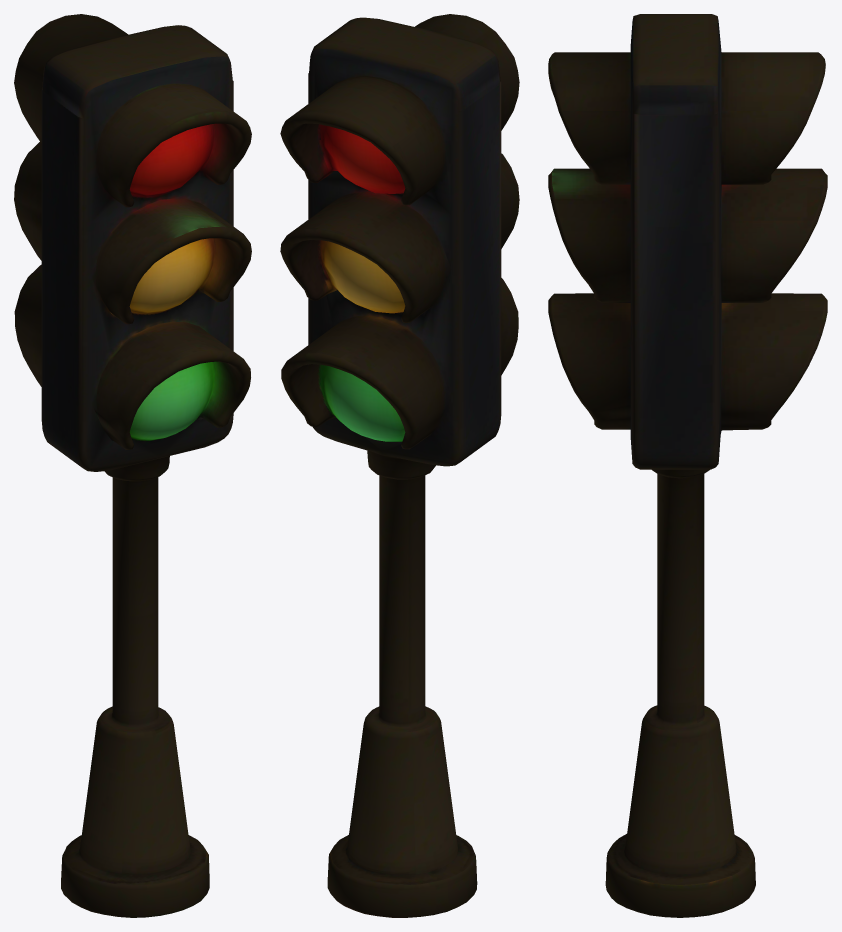
Rendered from traffic_light_b1babccc_v3.glb.
3 views of the same model, side by side, from view 1: azimuth 30°, elevation 25°; view 2: azimuth 150°, elevation 25°; view 3: azimuth 270°, elevation 25° (orthographic).
Parts seen in each view (by area): view 1: material; view 2: material; view 3: material.
Boxes of the visible parts, x1=… form: material: x1=14, y1=14, x2=251, y2=917; material: x1=280, y1=14, x2=519, y2=917; material: x1=548, y1=14, x2=827, y2=917.
Bounding box in the file's own units: 0.3652 × 1.9 × 0.5702.
1 material, 1 textured.
